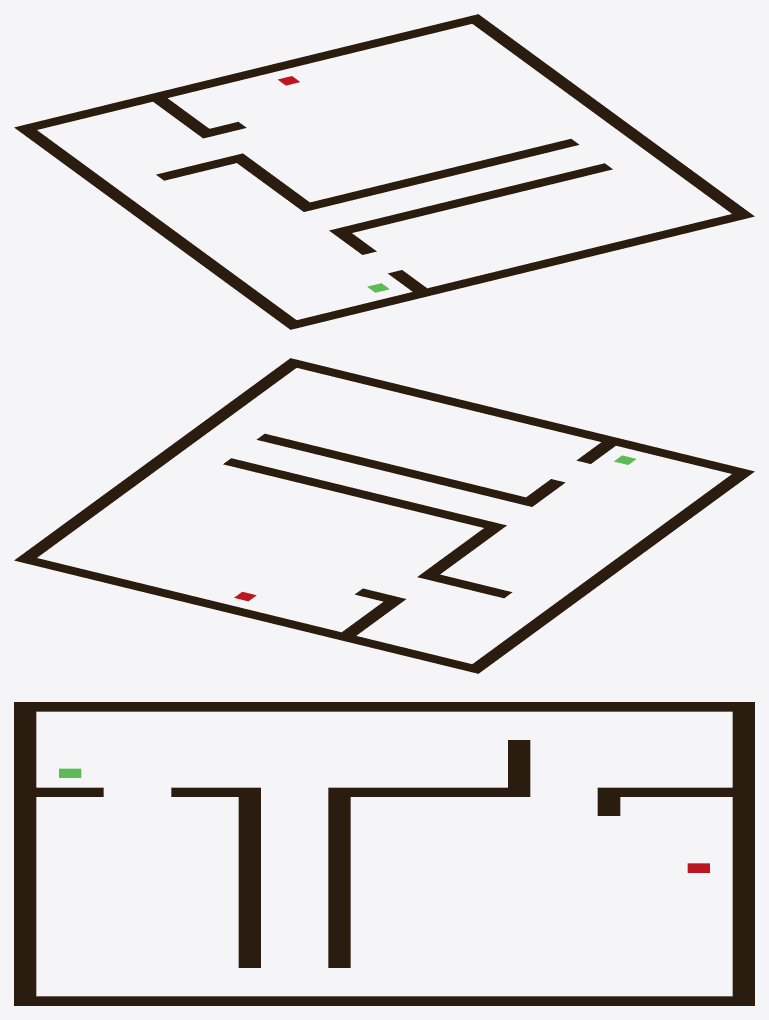
File: map1.dae
The picture shows the model from 3 angles, top to bottom: view 1: azimuth 30°, elevation 25°; view 2: azimuth 150°, elevation 25°; view 3: azimuth 270°, elevation 25°; orthographic projection. The views are drawn at different scales.
Parts seen in each view (by area): view 1: wall; view 2: wall; view 3: wall.
Boxes of the visible parts, left/top/right/bottom form: wall: left=14, top=14, right=754, bottom=329; wall: left=14, top=358, right=754, bottom=673; wall: left=14, top=702, right=754, bottom=1005.
Bounding box in the file's own units: 16 × 16.5 × 0.
